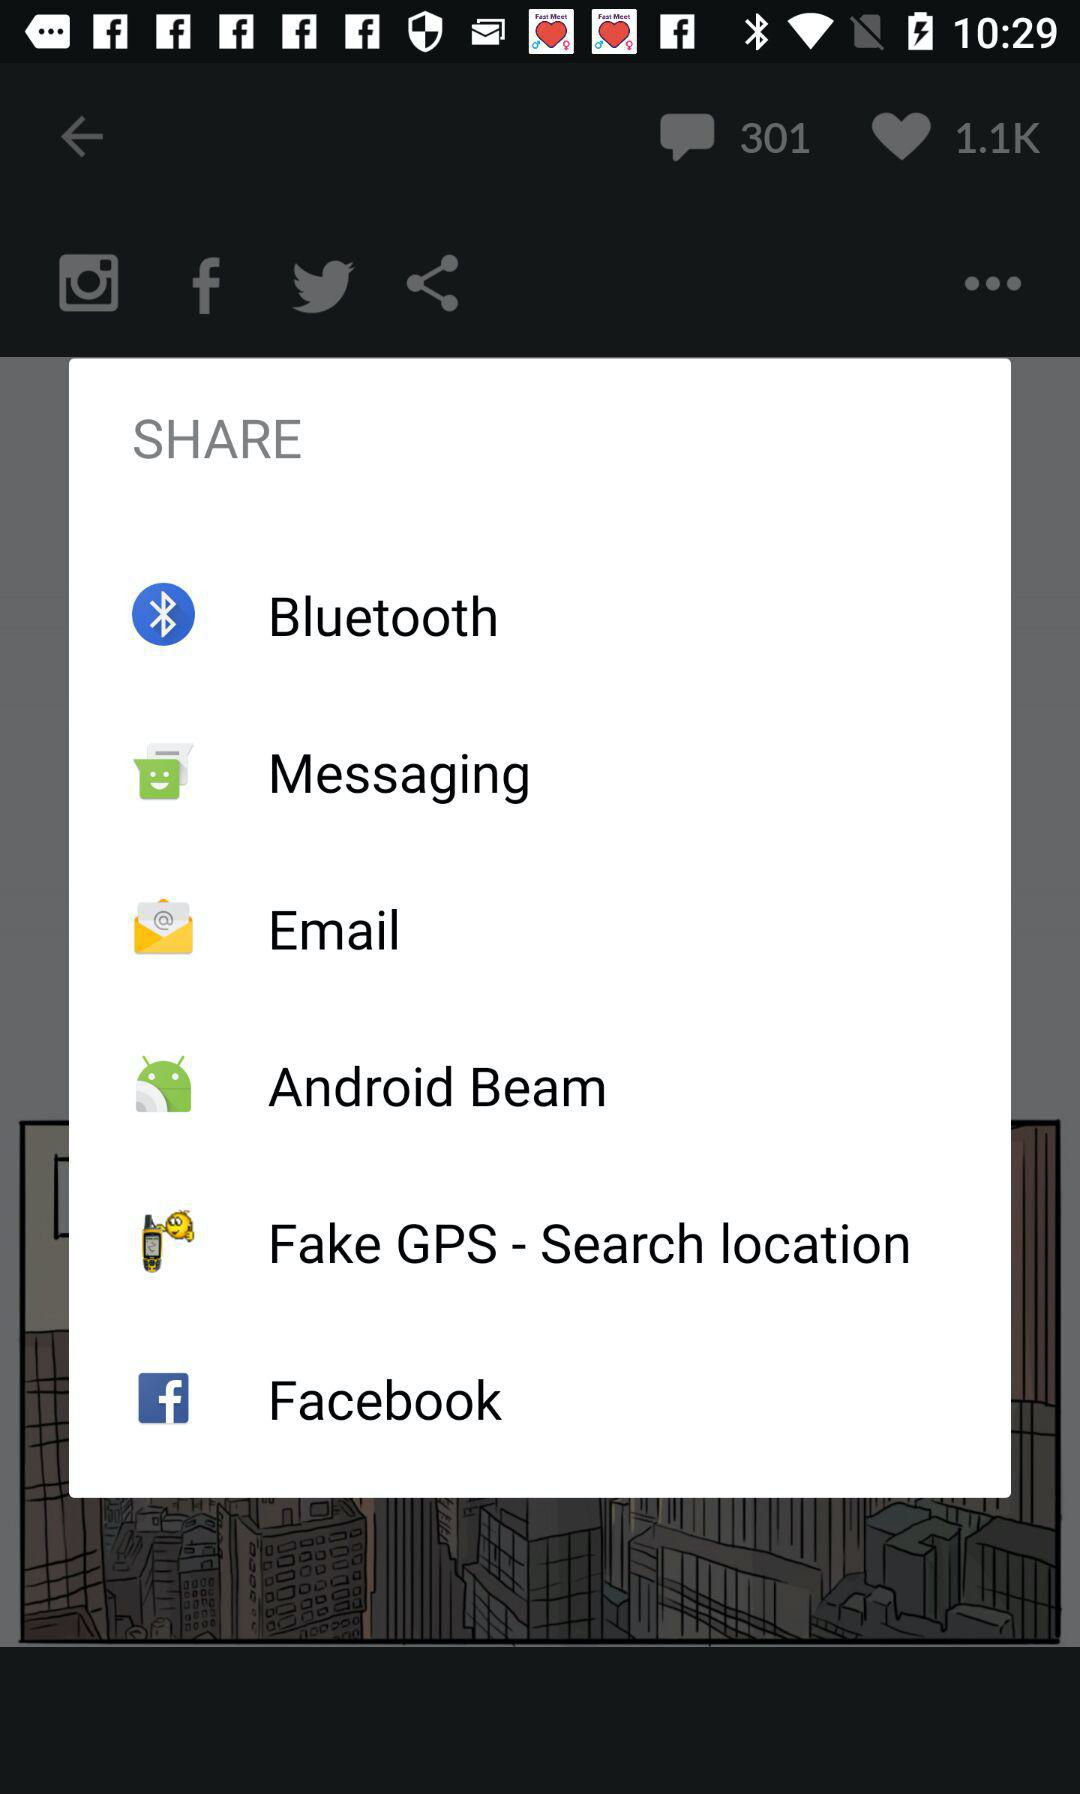Icon: (133, 583, 196, 646), (59, 254, 120, 314), (291, 261, 356, 315), (406, 255, 459, 313), (871, 113, 931, 161), (660, 114, 715, 164), (138, 1372, 190, 1424), (61, 117, 105, 160), (193, 258, 222, 317), (963, 276, 1022, 292)
Image: (133, 743, 193, 800), (142, 1210, 196, 1272), (135, 898, 193, 955), (136, 1056, 192, 1112)
Modal: (69, 359, 1011, 1498)
Text: (272, 1221, 910, 1266), (269, 1066, 605, 1108), (272, 753, 529, 805), (272, 595, 497, 638), (272, 1379, 502, 1421), (135, 420, 304, 460), (272, 909, 398, 951), (956, 123, 1042, 155), (740, 122, 810, 155)
UpperTaskBar: (1, 1, 1080, 64)
